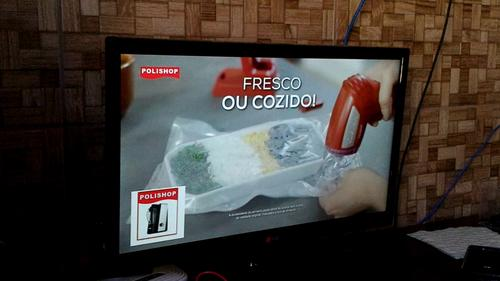Polishop #1: (130, 185, 185, 246)
